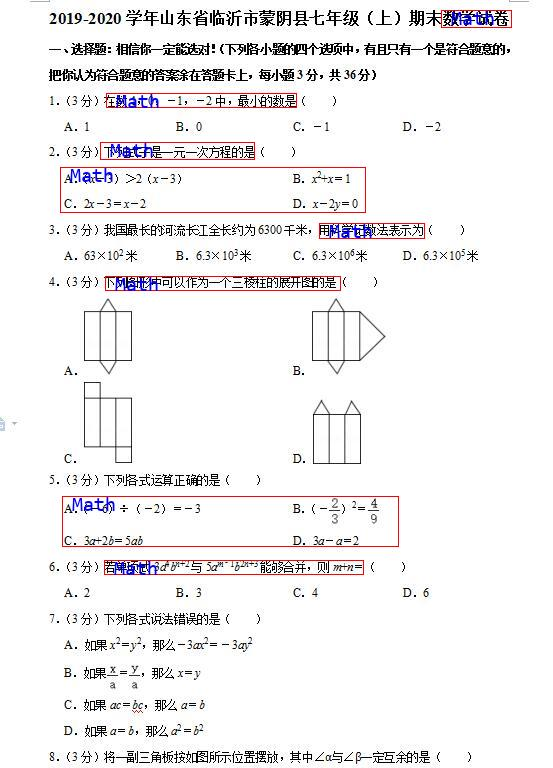Math: (62, 496, 398, 546), (60, 167, 365, 212), (104, 560, 363, 574), (105, 276, 340, 290), (106, 93, 296, 107), (100, 142, 254, 159), (319, 223, 424, 238), (441, 10, 511, 27)
